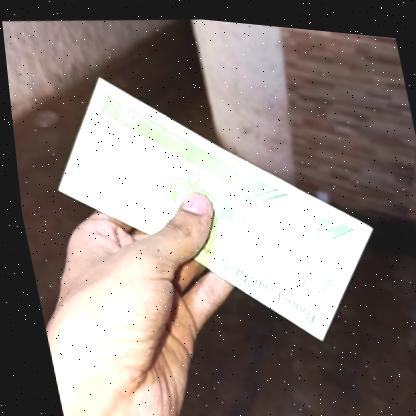vef_back: (28, 42, 394, 365)
